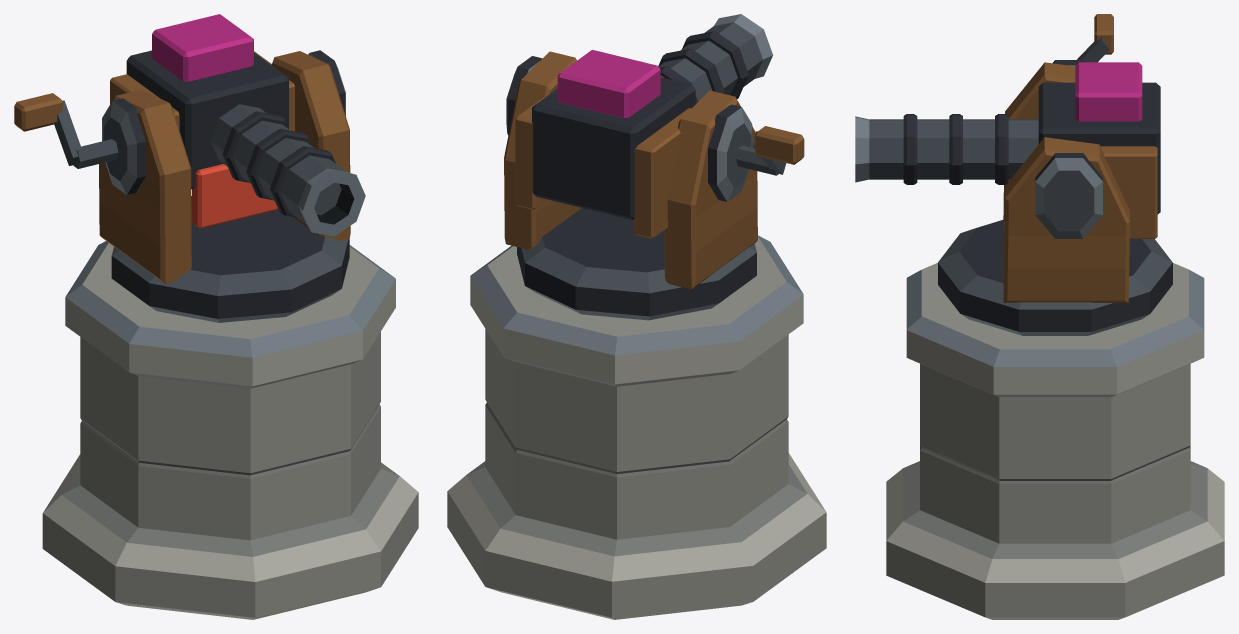
The model's file is lv1_cadence.glb.
The picture shows the model from 3 angles, left to right: view 1: azimuth 30°, elevation 25°; view 2: azimuth 150°, elevation 25°; view 3: azimuth 270°, elevation 25°; orthographic projection. The views are drawn at different scales.
Parts seen in each view (by area): view 1: Base, Turret_Yaw, Barrel_Recoil, Team_Panels; view 2: Base, Turret_Yaw, Barrel_Recoil; view 3: Base, Turret_Yaw, Barrel_Recoil.
Part boxes in pixels (<box>): Base: <box>42,241,418,619</box>; Turret_Yaw: <box>14,50,350,322</box>; Barrel_Recoil: <box>110,14,365,236</box>; Team_Panels: <box>192,164,278,228</box>; Base: <box>447,235,826,619</box>; Turret_Yaw: <box>504,51,804,320</box>; Barrel_Recoil: <box>515,14,772,238</box>; Base: <box>886,263,1224,619</box>; Turret_Yaw: <box>938,14,1172,335</box>; Barrel_Recoil: <box>855,62,1160,238</box>.
Size of the model in its own units: 1.58 by 2.2 by 1.54.
